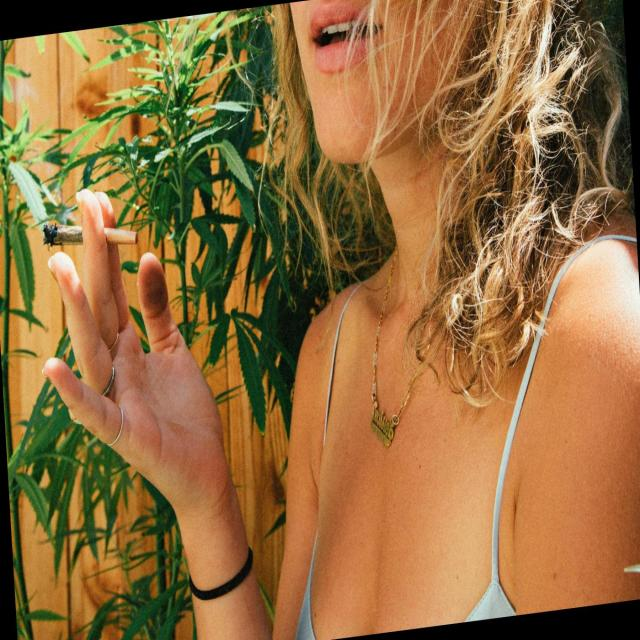cigarette: (36, 177, 154, 289)
